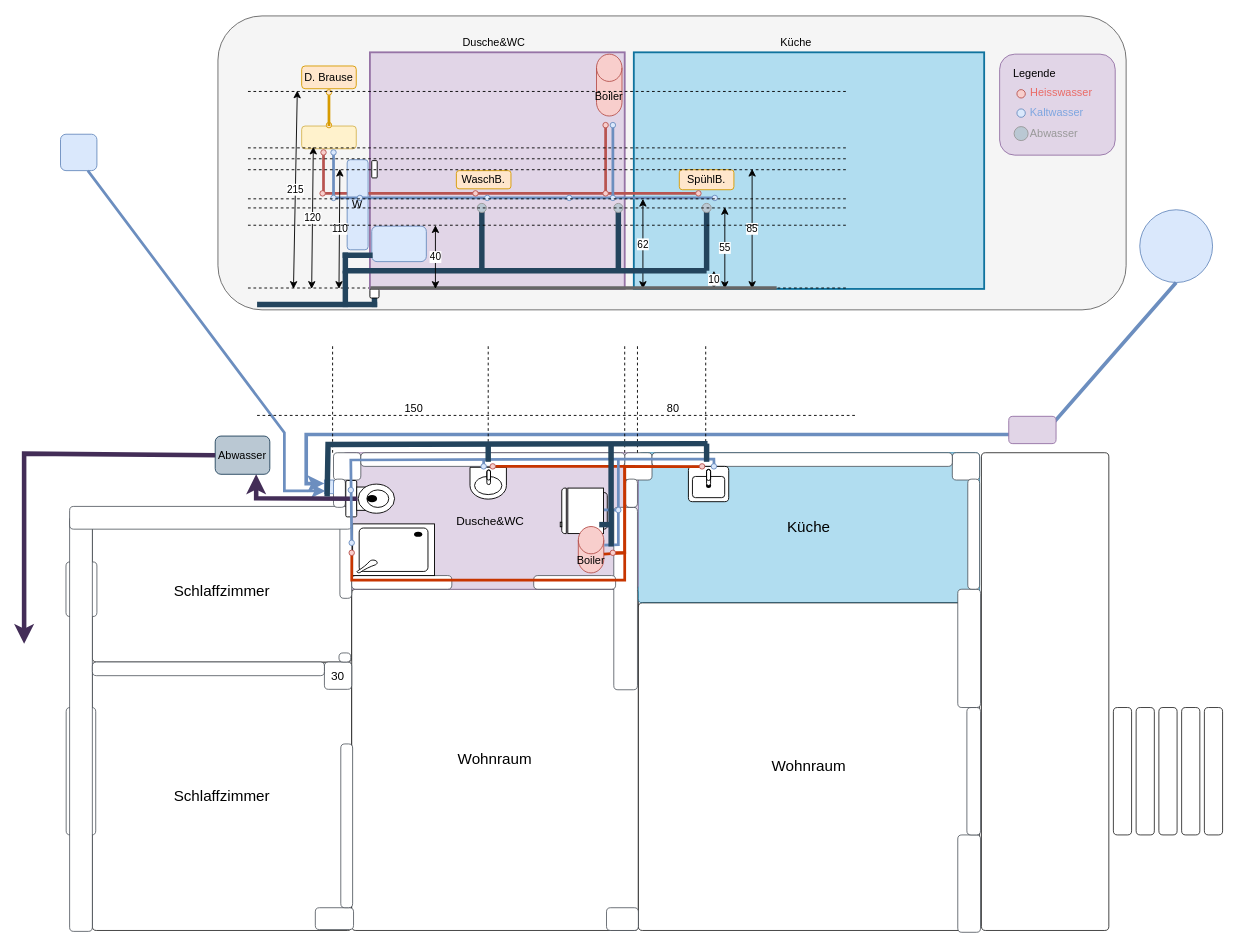
The diagram is 1239 pixels wide and 948 high, and some of its shapes have lost their labels. The shapes that lost their labels are listed below. From the top down, each one's centre as x and y in pixels, then its label:
At (78,152): "Wasser".
At (328,137): "D. Mixer".
At (398,243): "WandWC".
At (1176,246): "Brunne".
At (1032,429): "Elektro Pumpe".
At (1045,691): "Terrace".
